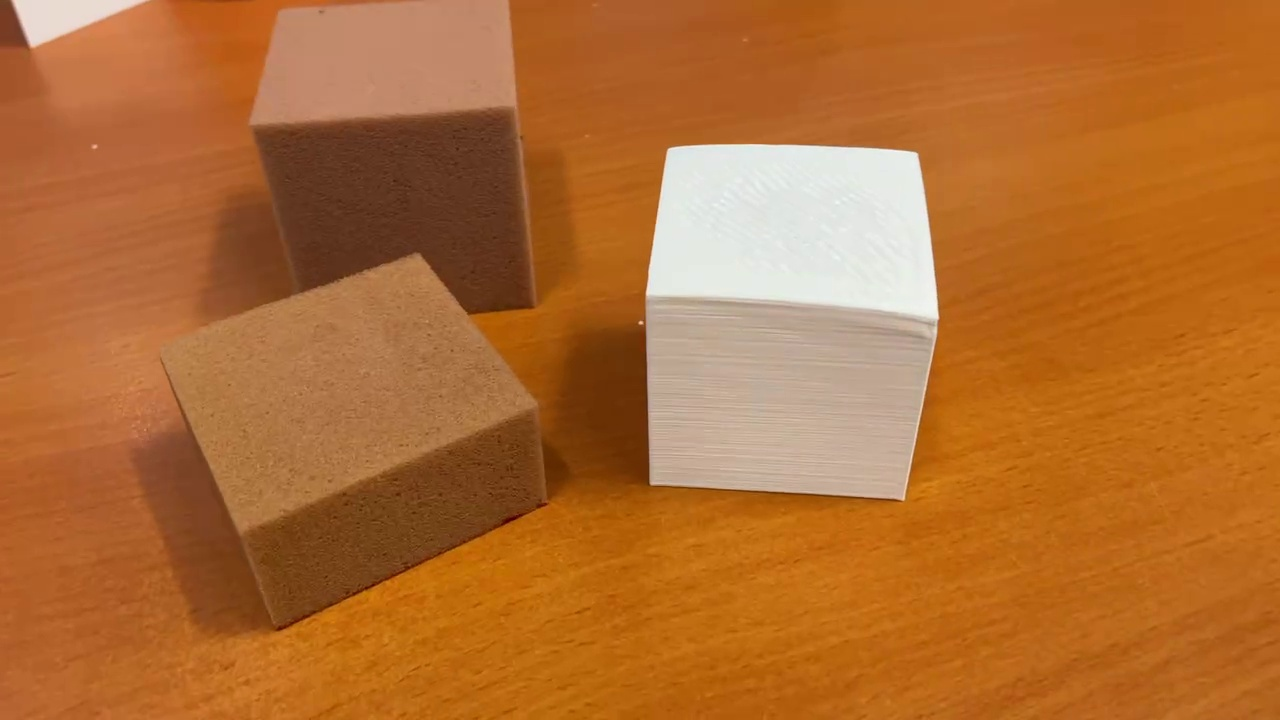Cube: (643, 140, 942, 503), (241, 1, 540, 314)
Cube_short: (150, 249, 554, 639)
